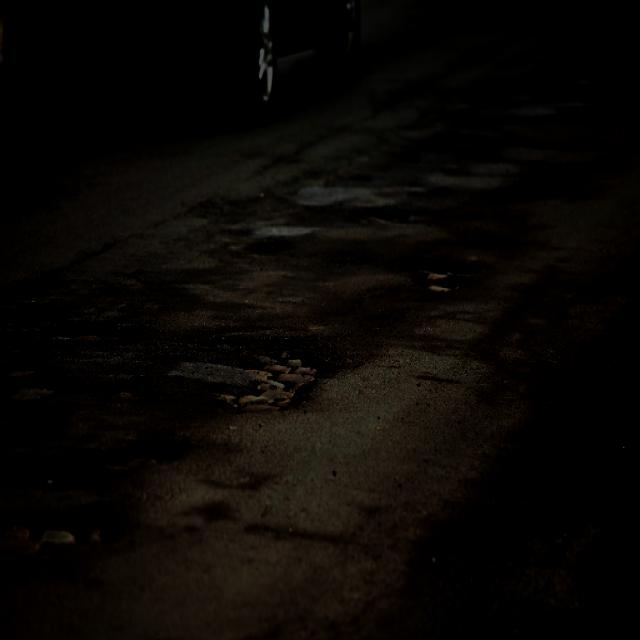Pothole: (2, 315, 132, 421)
